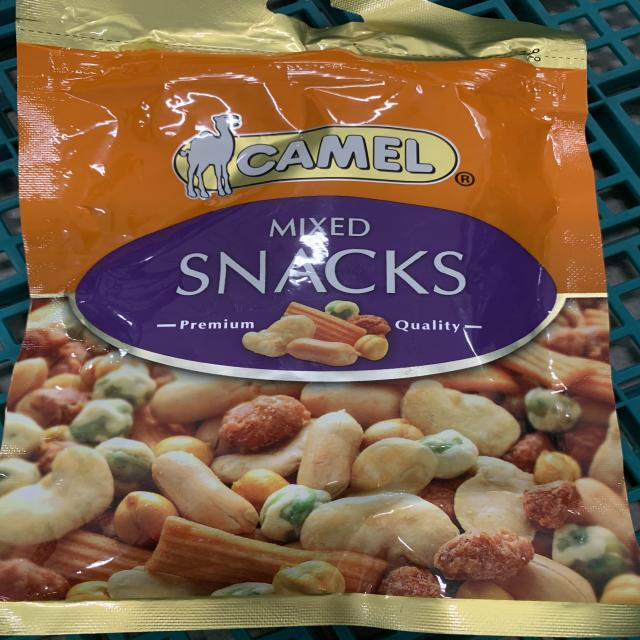object_name: (13, 0, 624, 630)
